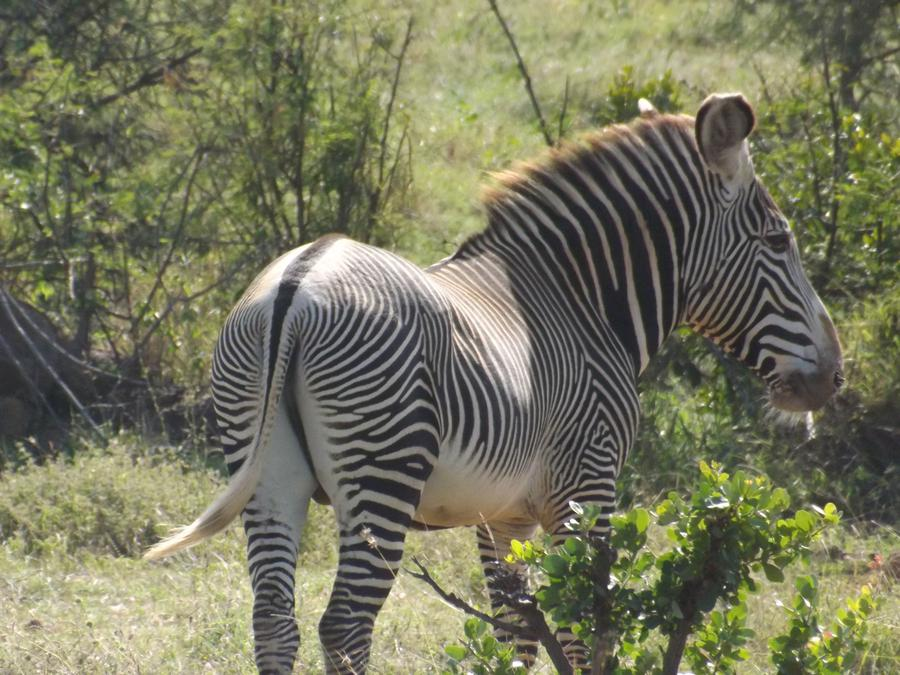zebra_grevys: (253, 230, 627, 474)
